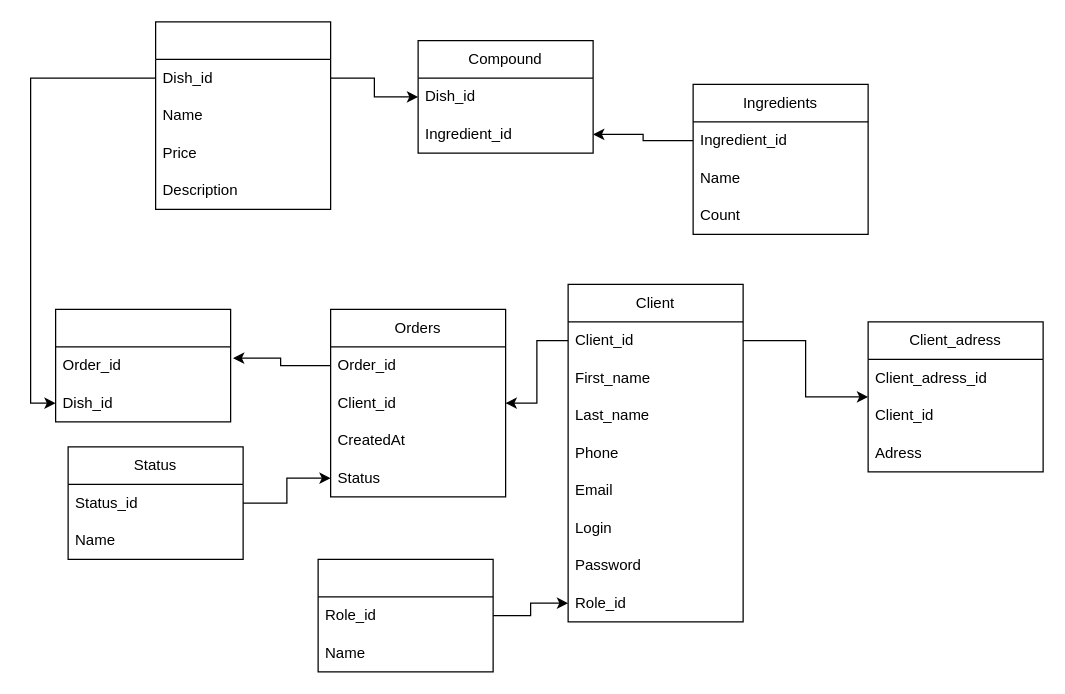
This 1065x694 diagram has some shape labels left out. The shapes that lost their labels are listed below. From the top down, each one's box as (x1, y1, x2, y2) in pixels, then its label:
(154, 21, 331, 209): Dishs
(54, 308, 231, 422): Dish_on_order
(317, 558, 493, 672): Roles
